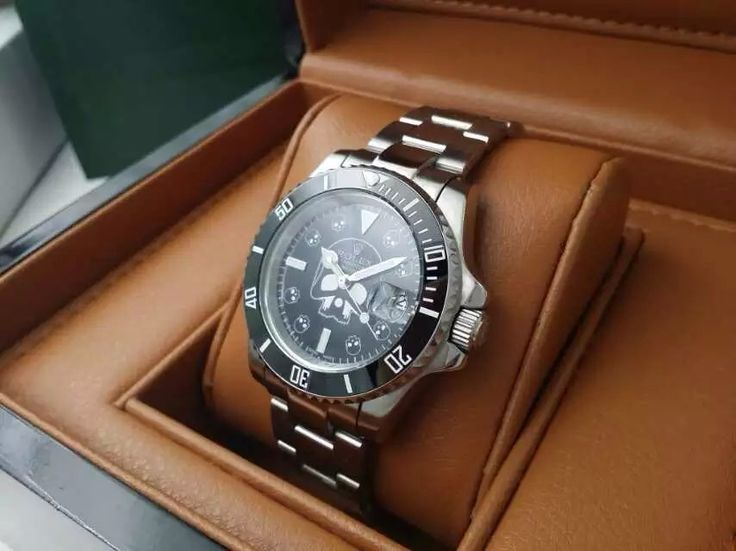clock: (260, 190, 424, 374)
